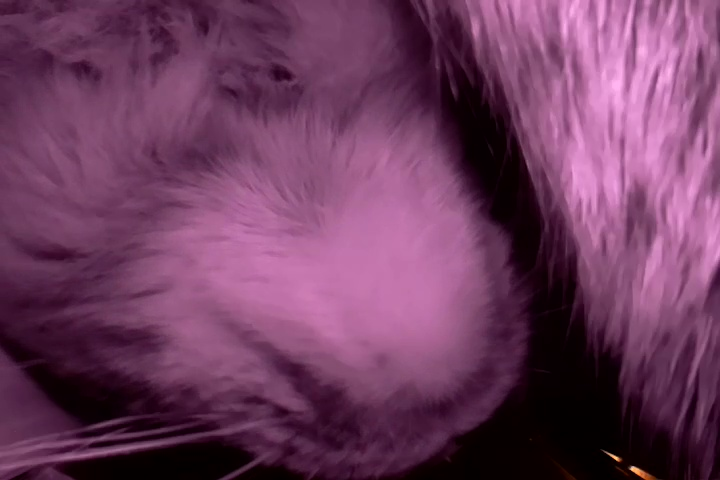Snout: (247, 295, 535, 477)
